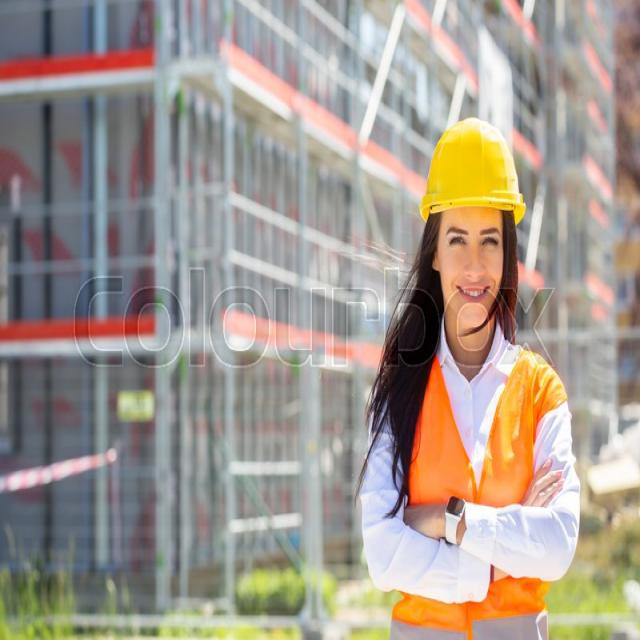helmet: (412, 115, 530, 228)
no-goggles: (419, 203, 524, 265)
vest: (383, 342, 573, 640)
